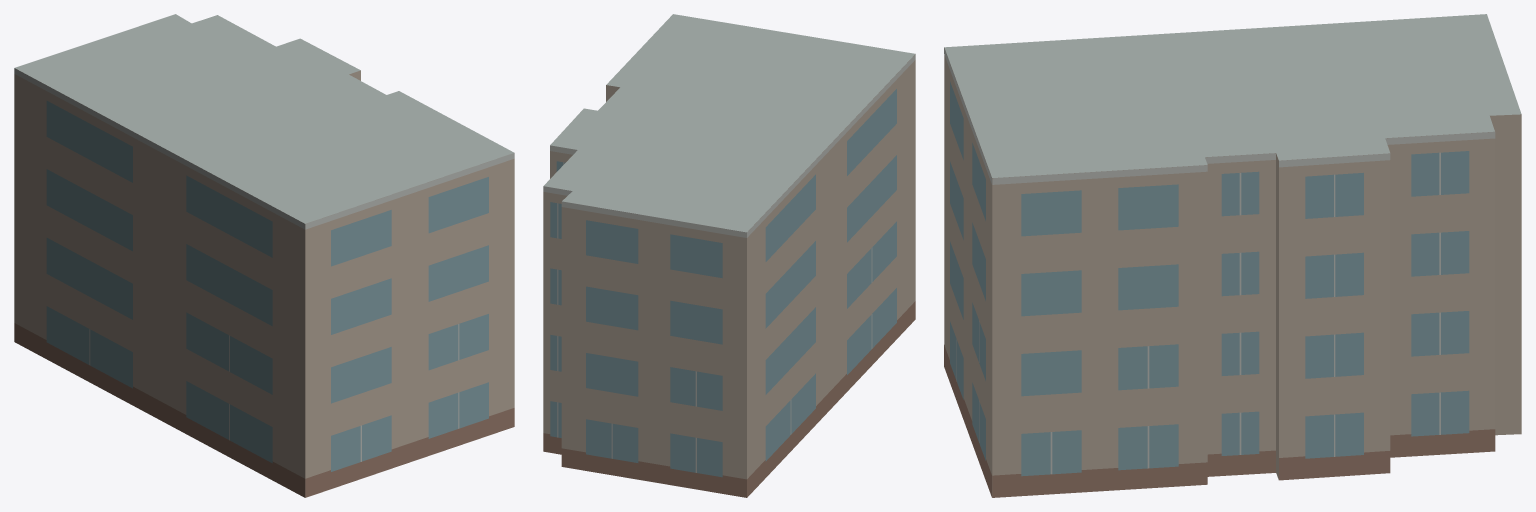
Rendered from survey-upis-32738191.glb.
The picture shows the model from 3 angles, left to right: view 1: azimuth 30°, elevation 25°; view 2: azimuth 150°, elevation 25°; view 3: azimuth 270°, elevation 25°; orthographic projection. The views are drawn at different scales.
Parts seen in each view (by area): view 1: survey-upis-32738191.tmp; view 2: survey-upis-32738191.tmp; view 3: survey-upis-32738191.tmp.
Part boxes in pixels (box(x1,y1,x2,y2)): survey-upis-32738191.tmp: box(14, 14, 514, 497); survey-upis-32738191.tmp: box(543, 14, 915, 497); survey-upis-32738191.tmp: box(944, 14, 1521, 497).
Bounding box in the file's own units: 12.61 × 11.45 × 18.75.
